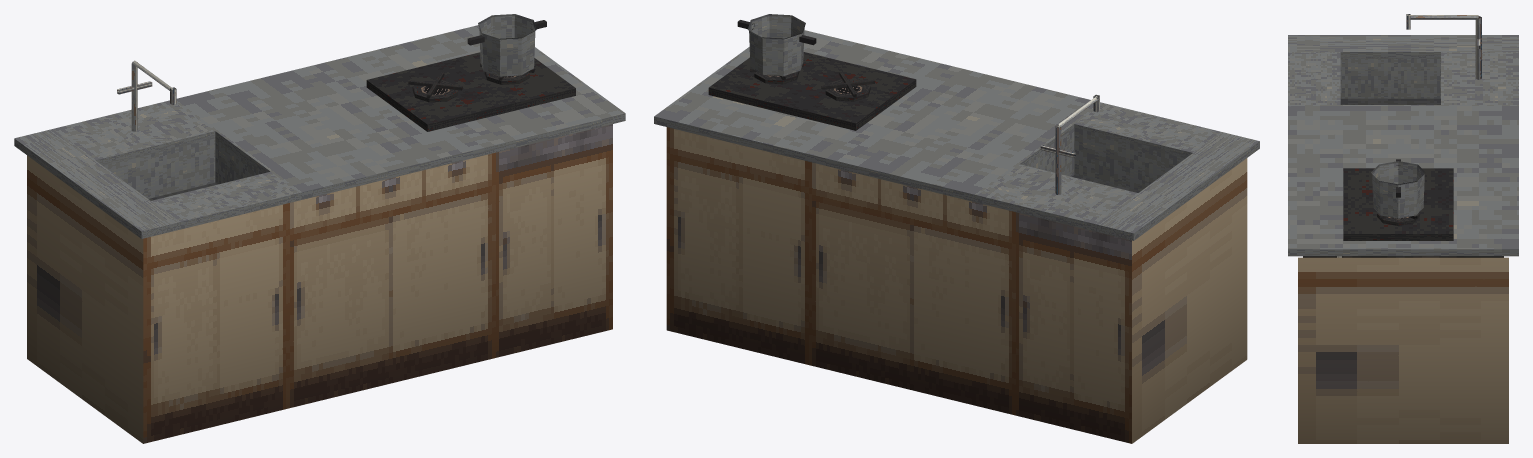
The model's file is prop_kitchen_counter-1.glb.
The picture shows the model from 3 angles, left to right: view 1: azimuth 30°, elevation 25°; view 2: azimuth 150°, elevation 25°; view 3: azimuth 270°, elevation 25°; orthographic projection. The views are drawn at different scales.
Parts seen in each view (by area): view 1: prop_kitchen_counter-1; view 2: prop_kitchen_counter-1; view 3: prop_kitchen_counter-1.
Part boxes in pixels (<box>): prop_kitchen_counter-1: <box>14,14,625,443</box>; prop_kitchen_counter-1: <box>654,14,1259,443</box>; prop_kitchen_counter-1: <box>1288,14,1518,443</box>.
Size of the model in its own units: 2.02 by 1.15 by 0.92.
Materials: 5 (5 with a texture image).
